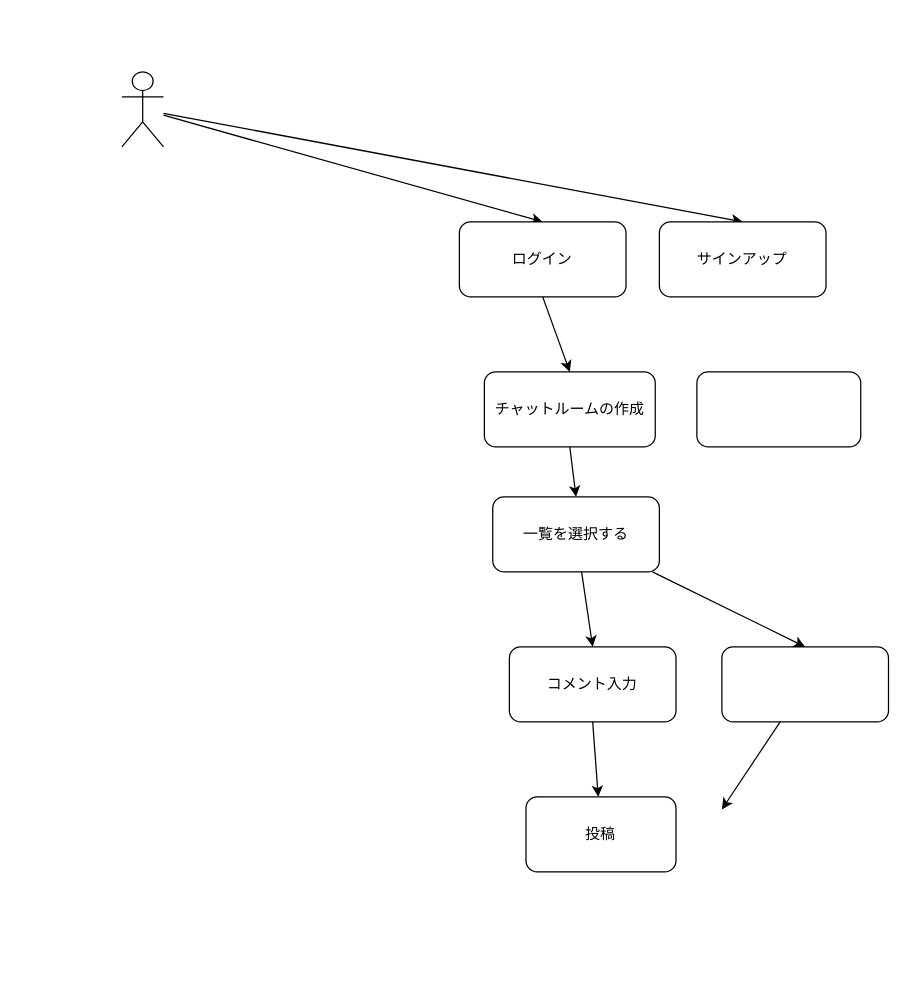
This 918x993 diagram has some shape labels left out. The centre of each missing label's shape, as x and y in pixels:
"アカウント更新" belongs at point (778, 409).
"一般ユーザー" belongs at point (142, 109).
"画像添付" belongs at point (804, 684).
